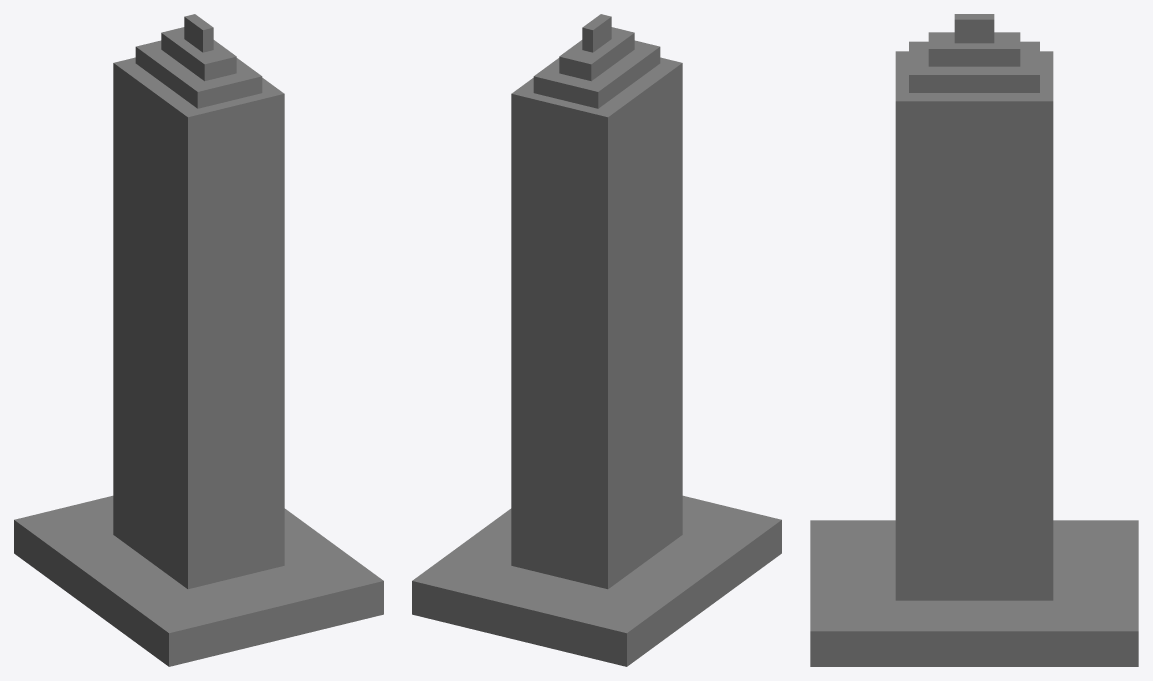
File: pillar.obj
The picture shows the model from 3 angles, left to right: view 1: azimuth 30°, elevation 25°; view 2: azimuth 150°, elevation 25°; view 3: azimuth 270°, elevation 25°; orthographic projection. The views are drawn at different scales.
Bounding box in the file's own units: 4 × 10 × 5.
1 material, 1 textured.
